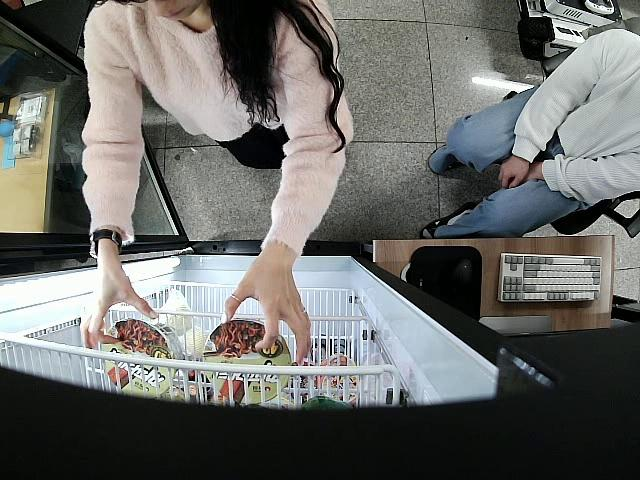00_hand: (221, 249, 314, 362), (80, 250, 157, 349)
03_chapagetti_L: (198, 321, 293, 404), (96, 318, 179, 398)
